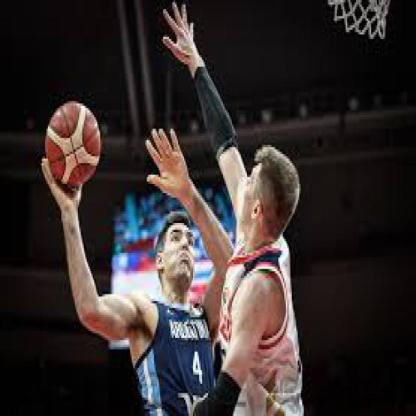basketball: (45, 103, 100, 188)
